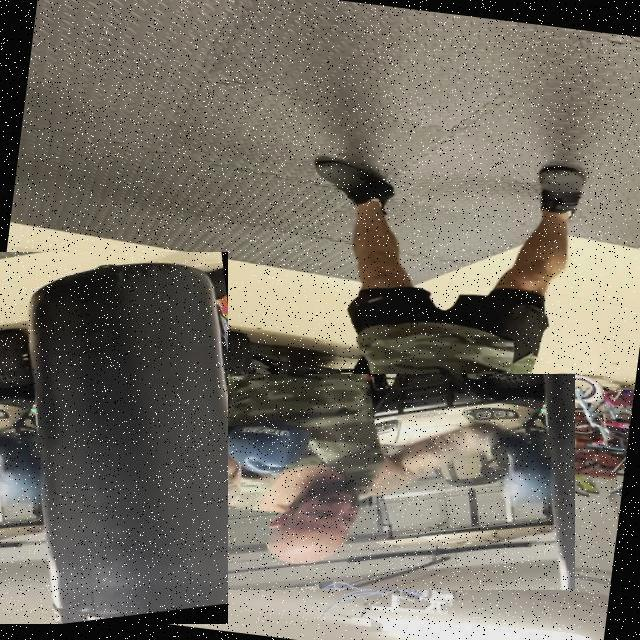punch: (163, 374, 575, 590)
